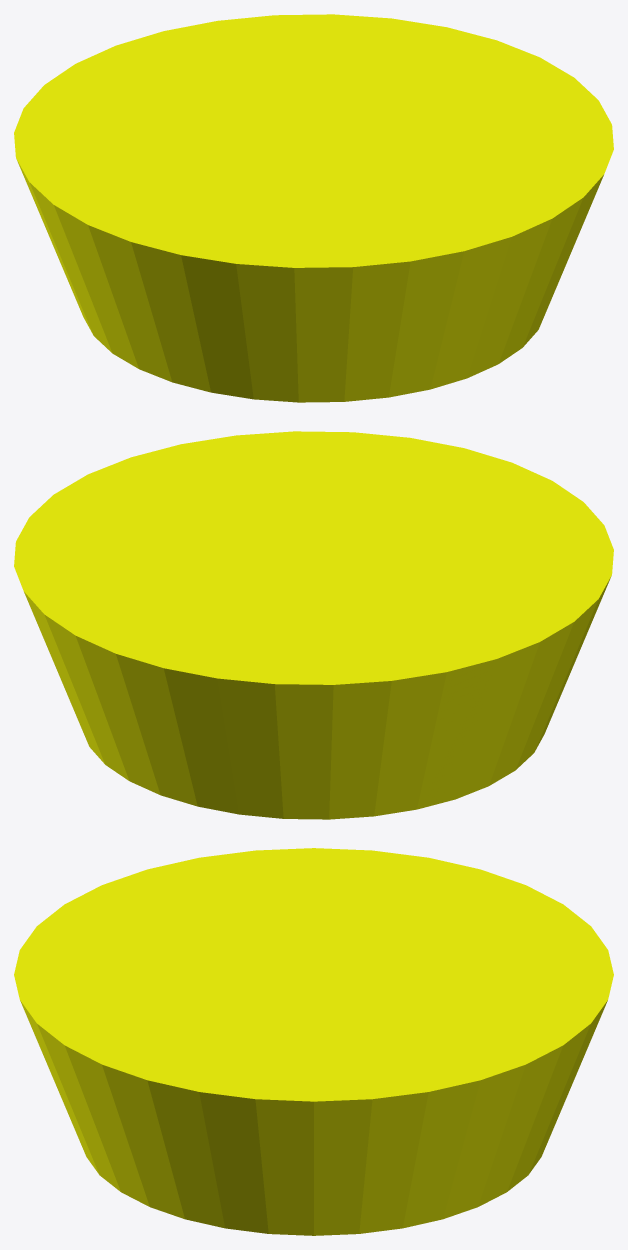
The model's file is tanklevel_low.gltf.
The picture shows the model from 3 angles, top to bottom: view 1: azimuth 30°, elevation 25°; view 2: azimuth 150°, elevation 25°; view 3: azimuth 270°, elevation 25°; orthographic projection.
Visible parts, largest first — view 1: Tank_Balls_level; view 2: Tank_Balls_level; view 3: Tank_Balls_level.
Boxes of the visible parts, x1,y1,x2,y2 form: Tank_Balls_level: (14, 14, 613, 402); Tank_Balls_level: (14, 431, 613, 819); Tank_Balls_level: (14, 848, 613, 1235).
Size of the model in its own units: 2.5 by 0.7485 by 2.5.
